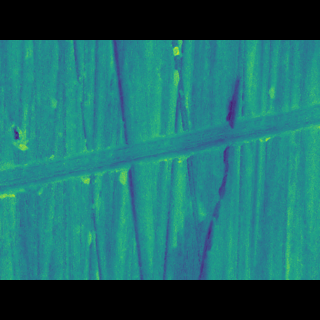Loch: (0, 116, 320, 193), (235, 70, 273, 249), (0, 128, 33, 155)
